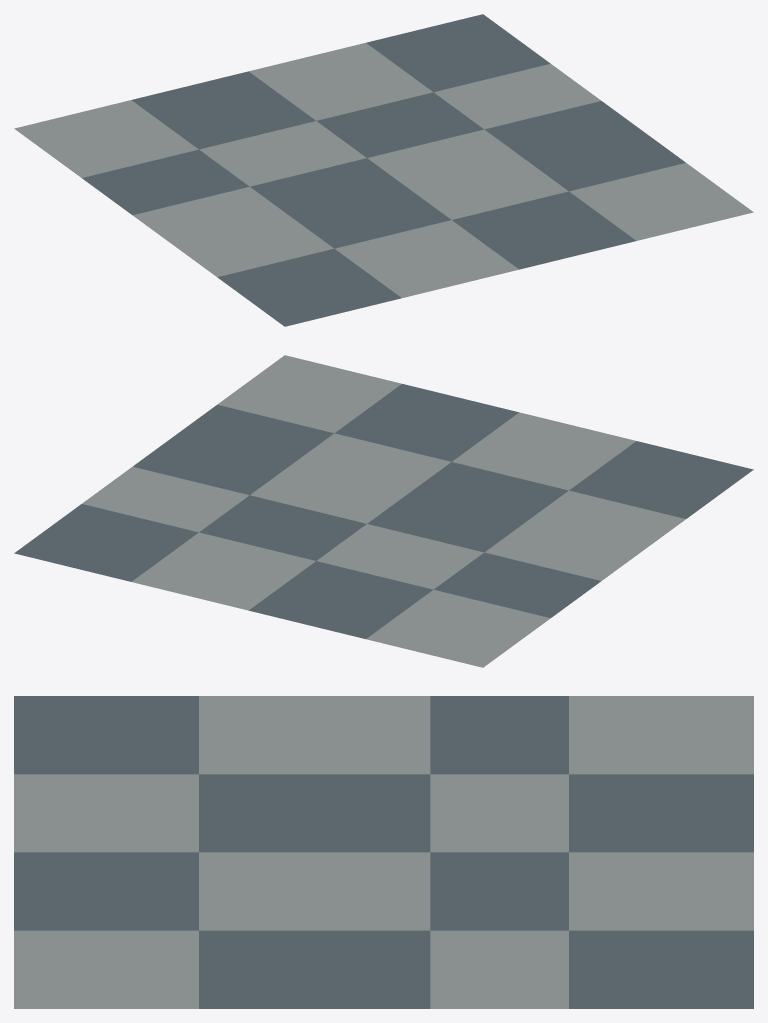
The model's file is human-loop-slide.glb.
The picture shows the model from 3 angles, top to bottom: view 1: azimuth 30°, elevation 25°; view 2: azimuth 150°, elevation 25°; view 3: azimuth 270°, elevation 25°; orthographic projection. The views are drawn at different scales.
Visible parts, largest first — view 1: grid.obj; view 2: grid.obj; view 3: grid.obj.
Part boxes in pixels (x1,y1,x2,y2): grid.obj: (14,14,753,326); grid.obj: (14,355,753,667); grid.obj: (14,696,753,1008).
Size of the model in its own units: 4 by 0 by 4.
1 material, 1 textured.
